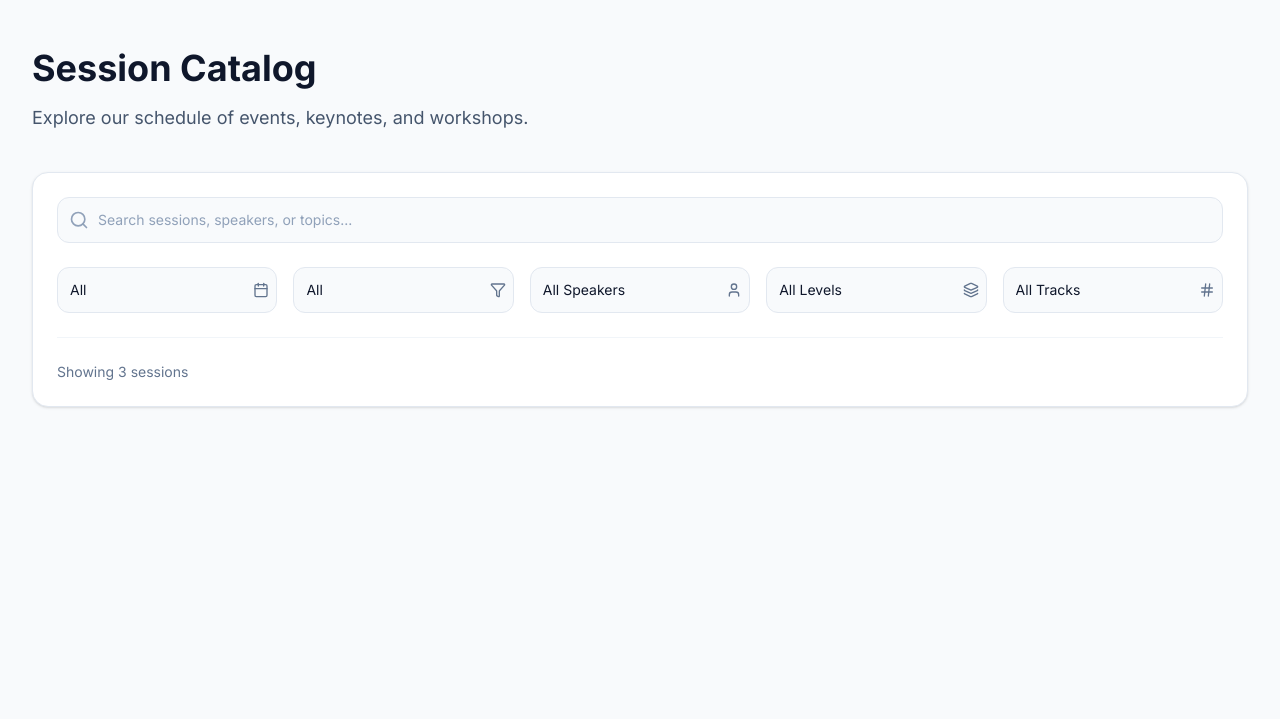
it: Catalog Page › filters by Category
This screenshot has width=1280, height=719.
Select "Keynote" in the 2nd dropdown: (404, 290) [293, 267, 514, 313]
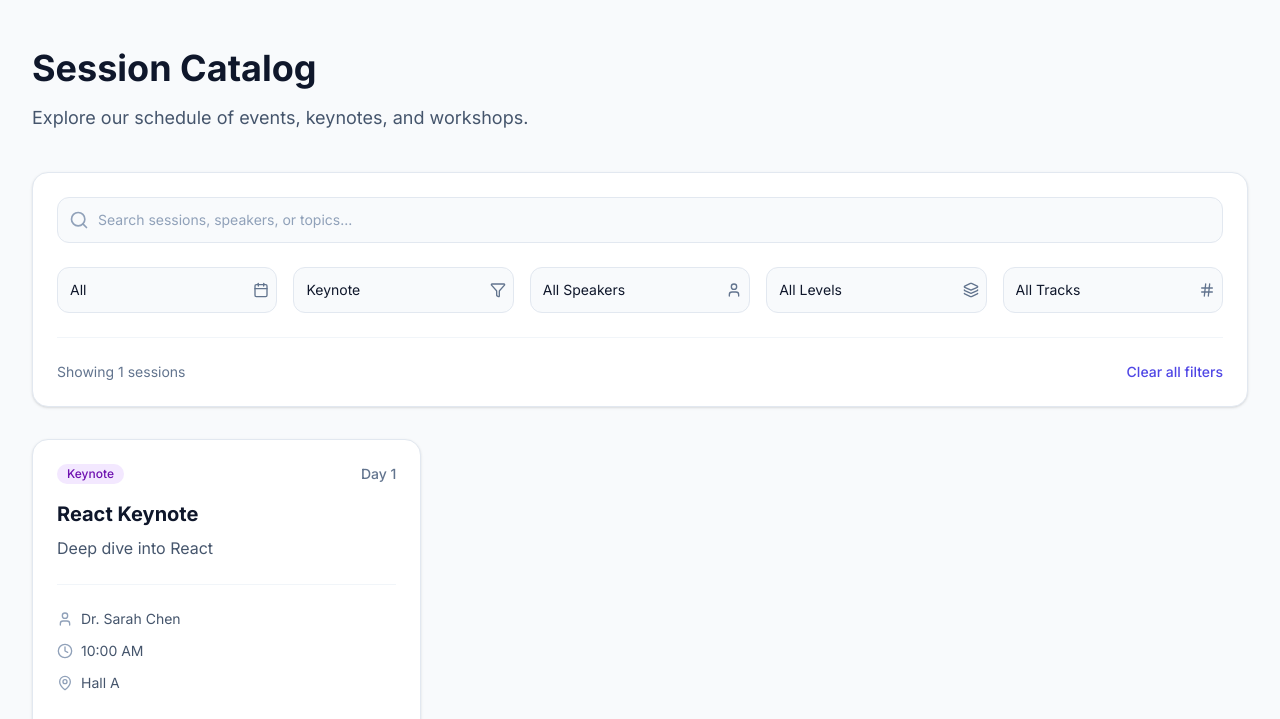
Expected: the heading "React Keynote" is shown, [57, 502, 198, 526]
